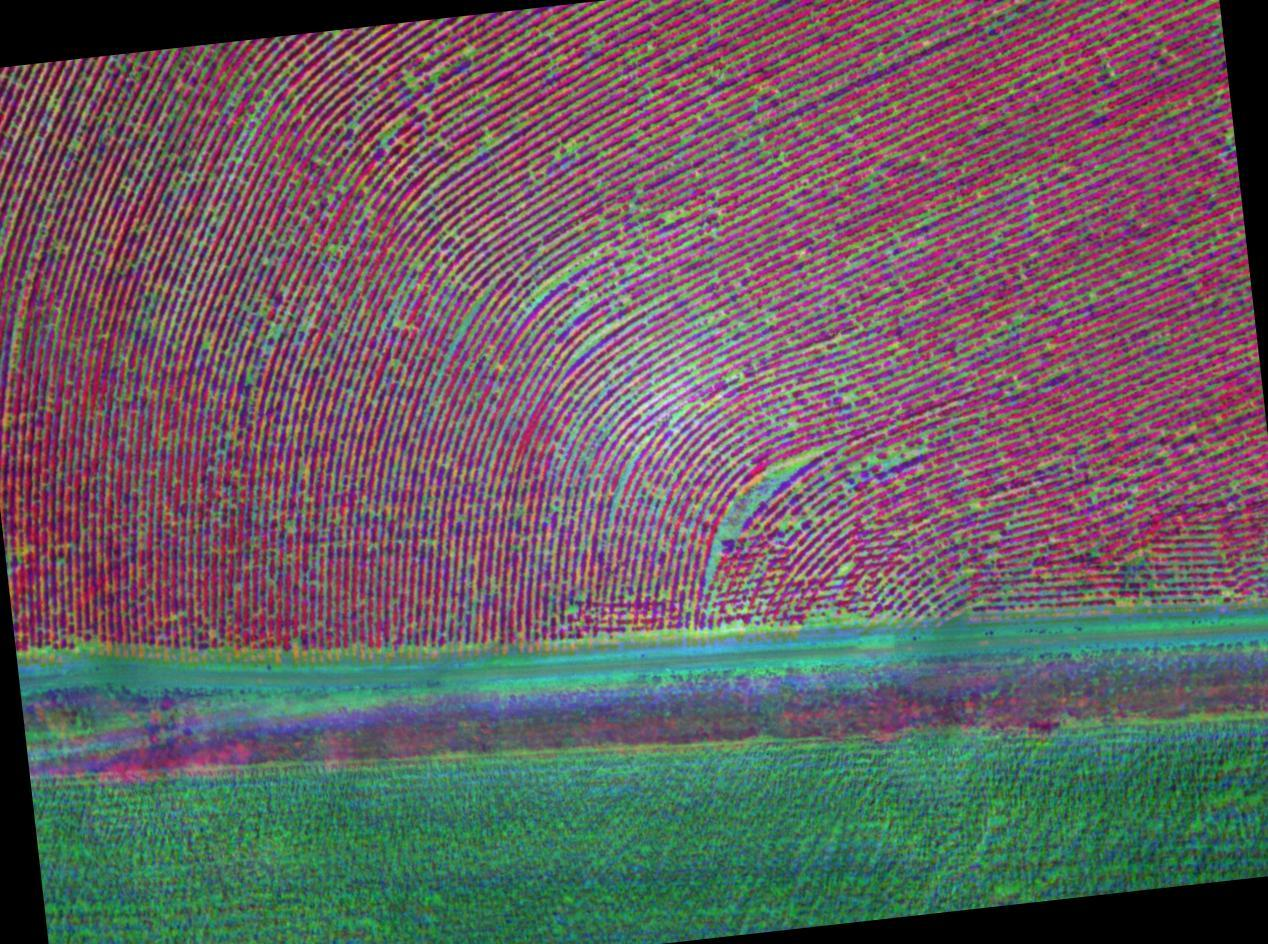dc: (713, 440, 826, 610), (213, 60, 339, 173), (526, 250, 642, 370), (391, 53, 523, 154), (148, 260, 287, 349), (863, 420, 932, 496)
